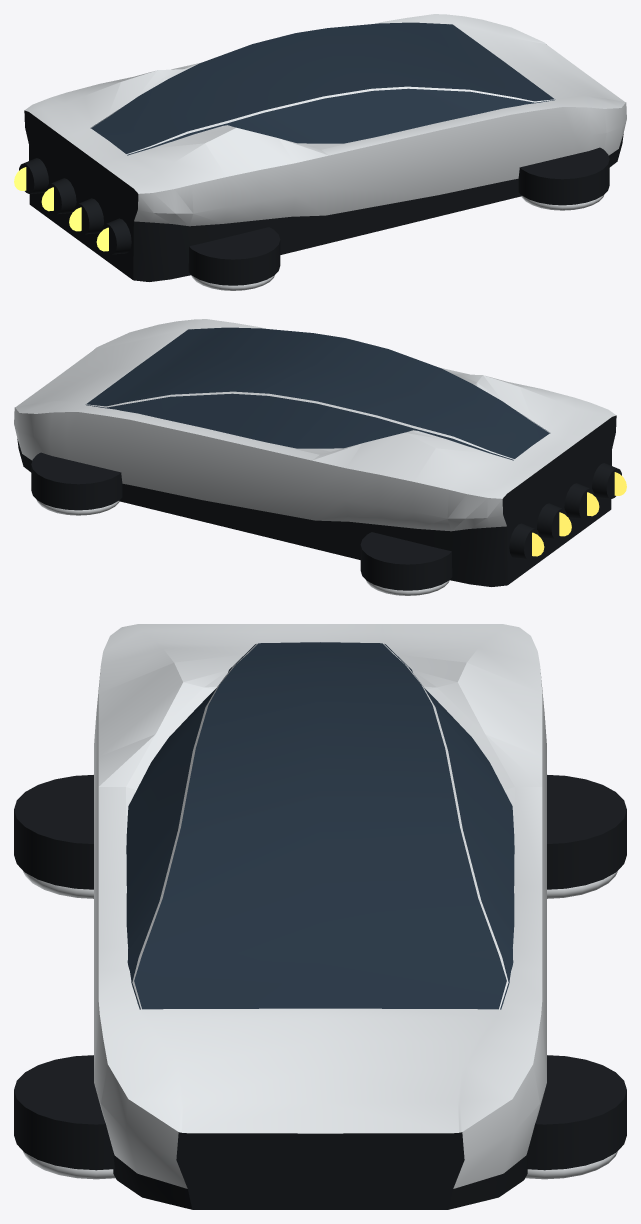
The model's file is hover_car.glb.
3 renders of one model, top to bottom at view 1: azimuth 30°, elevation 25°; view 2: azimuth 150°, elevation 25°; view 3: azimuth 270°, elevation 25°, orthographic. The views are drawn at different scales.
Parts seen in each view (by area): view 1: FlightPart1, FlightPart2, FlightPart0, FlightPart7, FlightPart13, FlightPart3, FlightPart22, FlightPart20, FlightPart16, FlightPart18, FlightPart8, FlightPart14; view 2: FlightPart1, FlightPart2, FlightPart0, FlightPart4, FlightPart10, FlightPart3, FlightPart16, FlightPart18, FlightPart22, FlightPart20, FlightPart5, FlightPart11; view 3: FlightPart2, FlightPart1, FlightPart0, FlightPart10, FlightPart13, FlightPart4, FlightPart7, FlightPart3, FlightPart11, FlightPart14.
Boxes of the visible parts, <box> form: FlightPart1: <box>24,14,626,226</box>; FlightPart2: <box>90,22,555,155</box>; FlightPart0: <box>24,110,623,281</box>; FlightPart7: <box>188,227,280,285</box>; FlightPart13: <box>518,147,609,205</box>; FlightPart3: <box>91,23,554,154</box>; FlightPart22: <box>101,218,131,254</box>; FlightPart20: <box>74,198,103,234</box>; FlightPart16: <box>19,158,48,193</box>; FlightPart18: <box>46,178,76,214</box>; FlightPart8: <box>191,275,274,290</box>; FlightPart14: <box>521,194,604,210</box>; FlightPart1: <box>14,319,616,531</box>; FlightPart2: <box>85,327,550,460</box>; FlightPart0: <box>17,415,616,586</box>; FlightPart4: <box>360,532,452,590</box>; FlightPart10: <box>31,452,122,510</box>; FlightPart3: <box>86,328,549,459</box>; FlightPart16: <box>509,523,539,559</box>; FlightPart18: <box>537,503,566,539</box>; FlightPart22: <box>592,463,621,498</box>; FlightPart20: <box>564,483,594,519</box>; FlightPart5: <box>366,580,449,595</box>; FlightPart11: <box>36,499,119,515</box>; FlightPart2: <box>126,642,514,1009</box>; FlightPart1: <box>94,624,546,1188</box>; FlightPart0: <box>113,1132,527,1209</box>; FlightPart10: <box>526,1055,626,1170</box>; FlightPart13: <box>14,1055,114,1170</box>; FlightPart4: <box>547,775,626,889</box>; FlightPart7: <box>14,775,93,889</box>; FlightPart3: <box>132,643,508,1009</box>; FlightPart11: <box>525,1151,617,1179</box>; FlightPart14: <box>23,1151,115,1179</box>.
Size of the model in its own units: 4.67 by 1.12 by 2.68.
